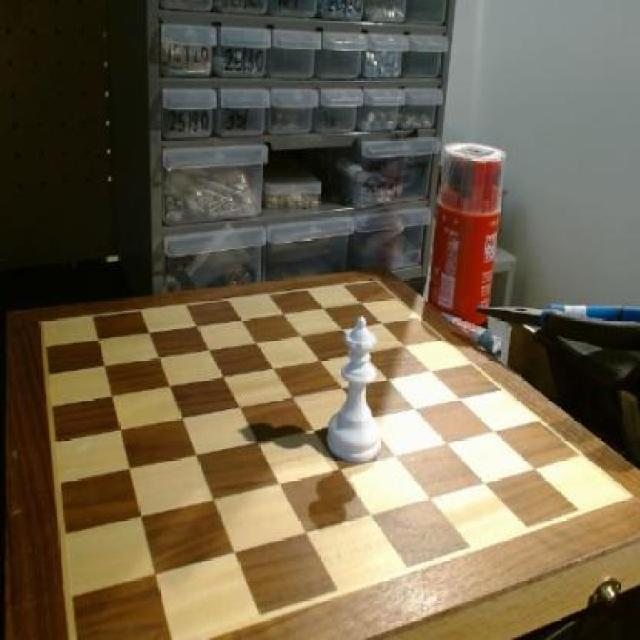white-pawn: (325, 312, 387, 467)
